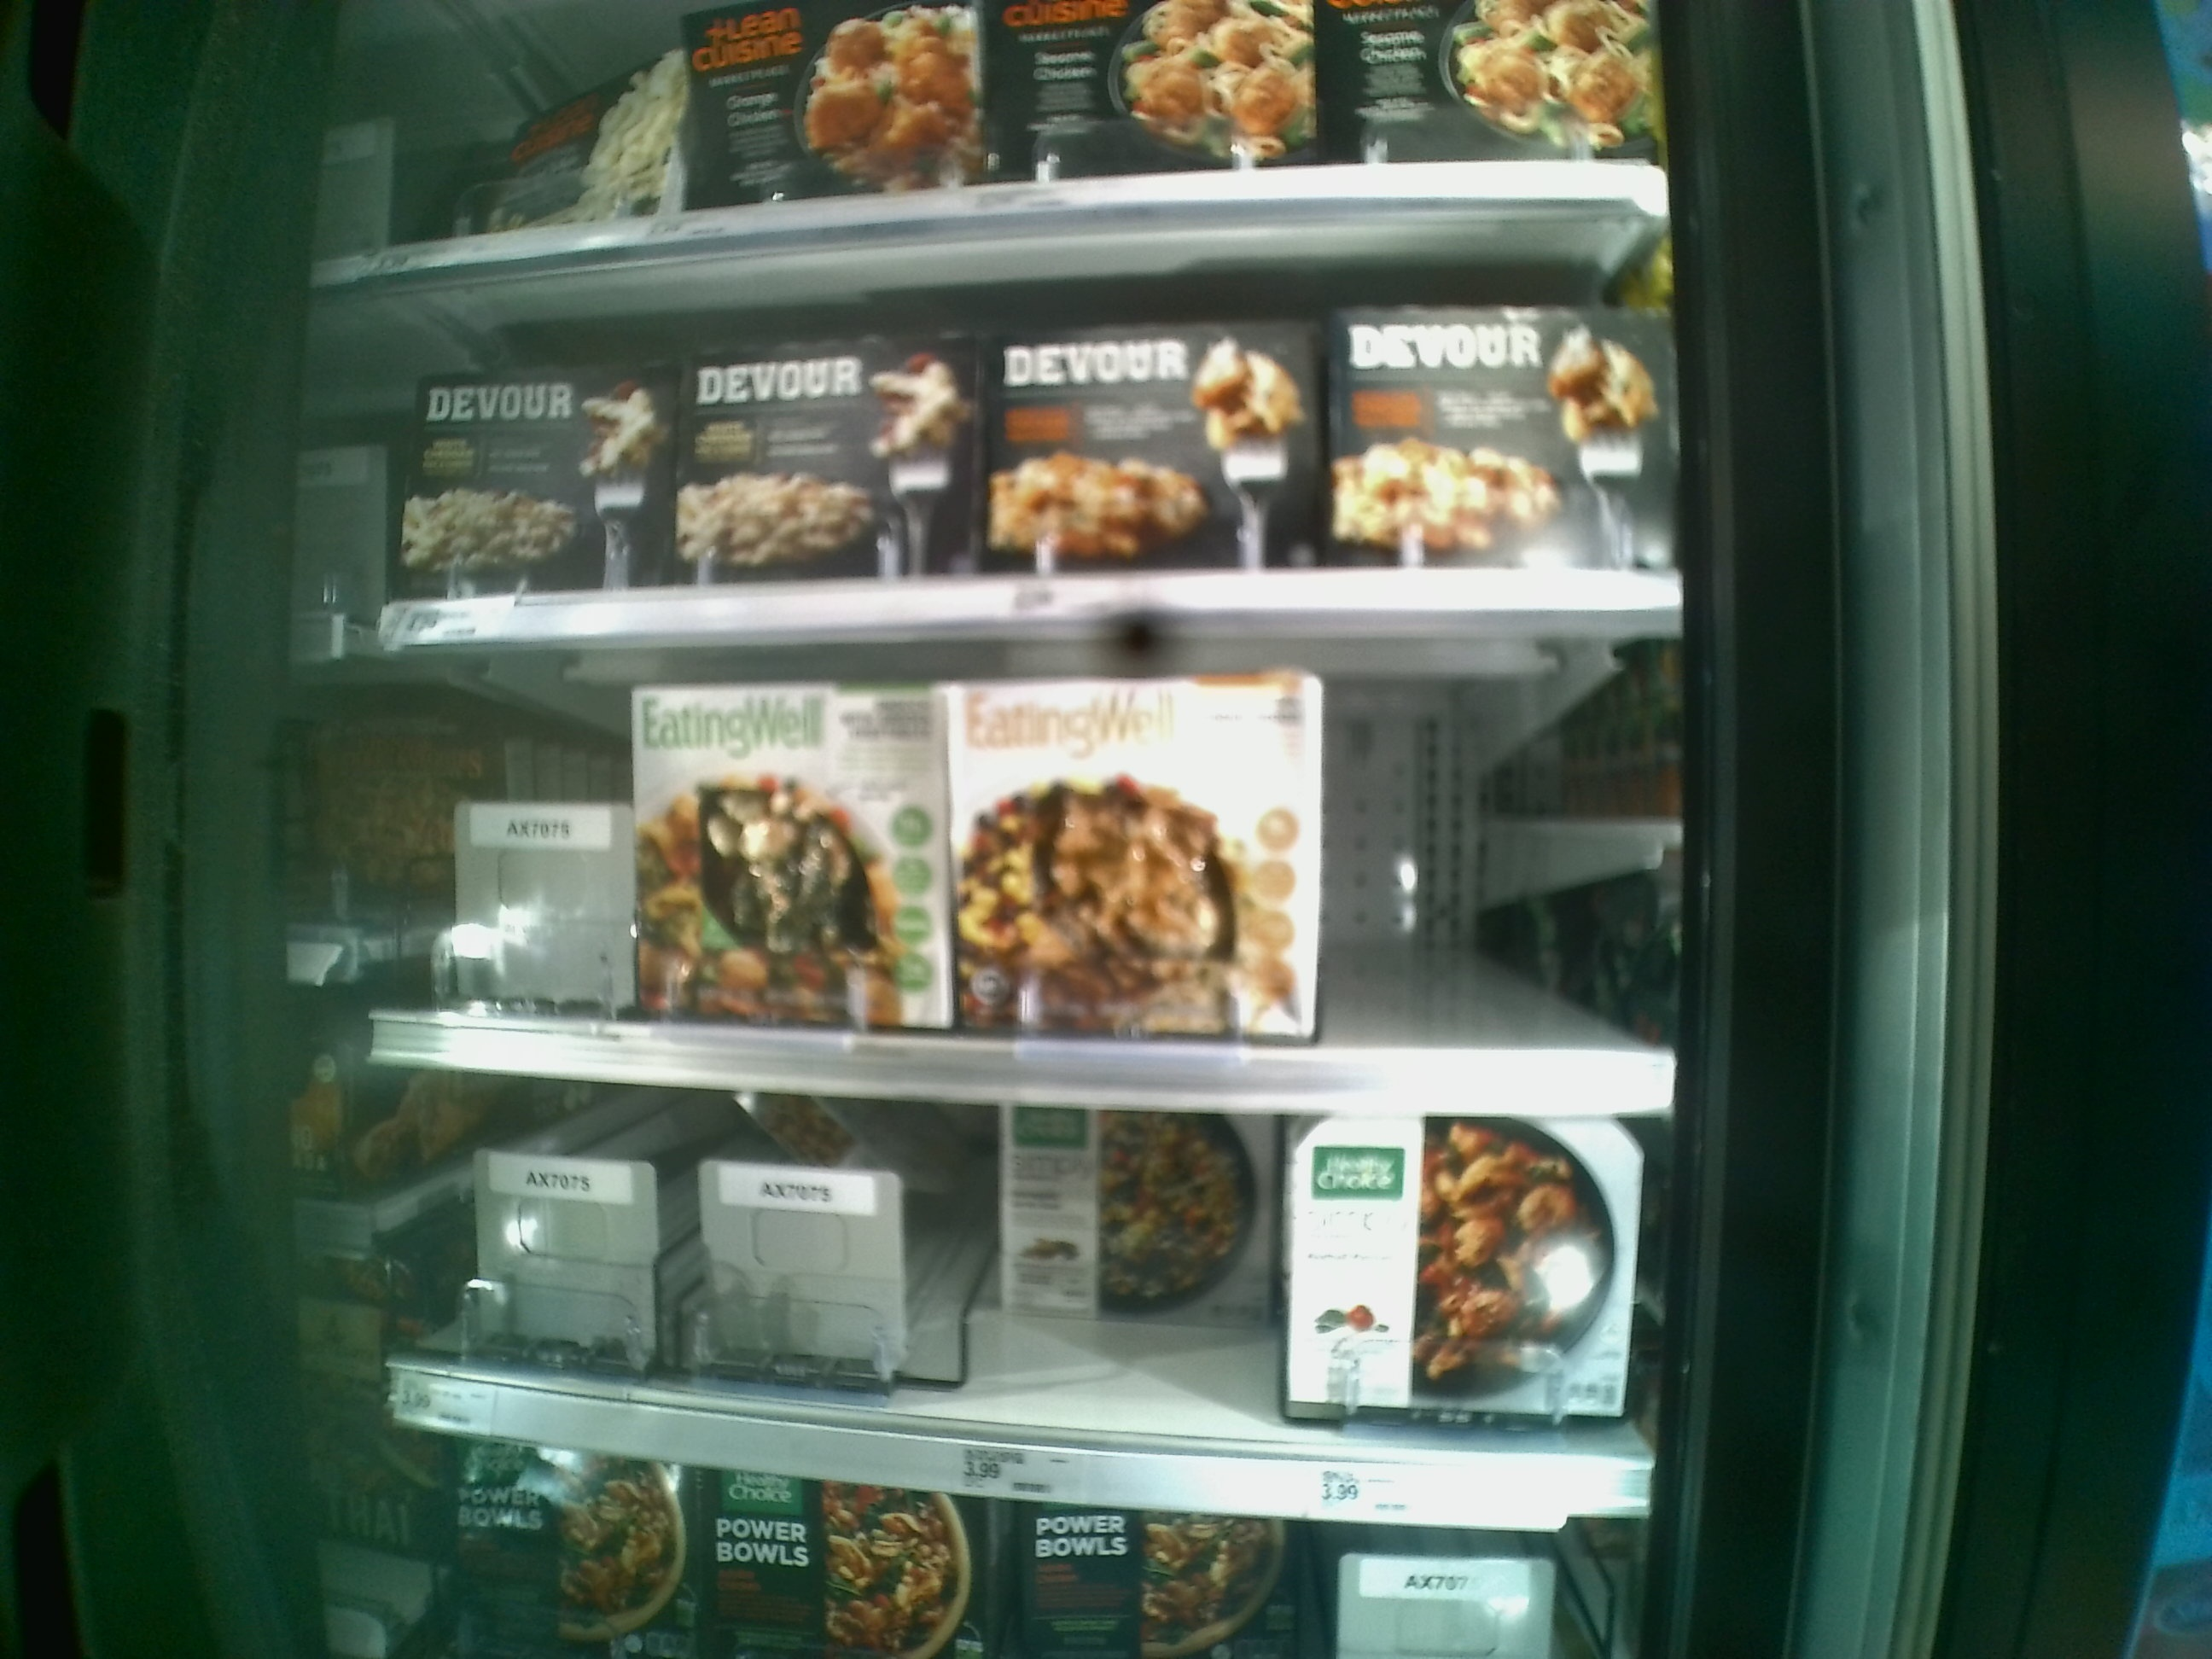shelf: (359, 647, 1681, 1121), (364, 1047, 1658, 1521), (343, 209, 1679, 643)
